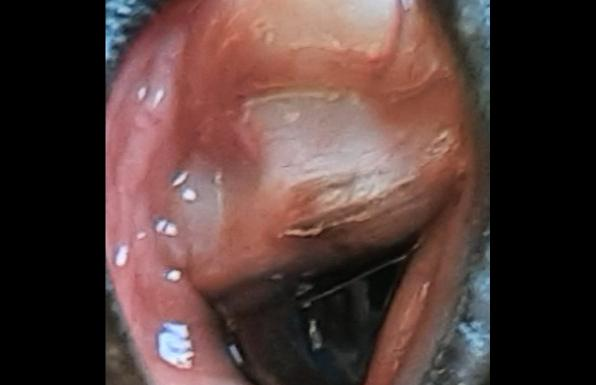eye_membrane: (108, 0, 480, 385)
